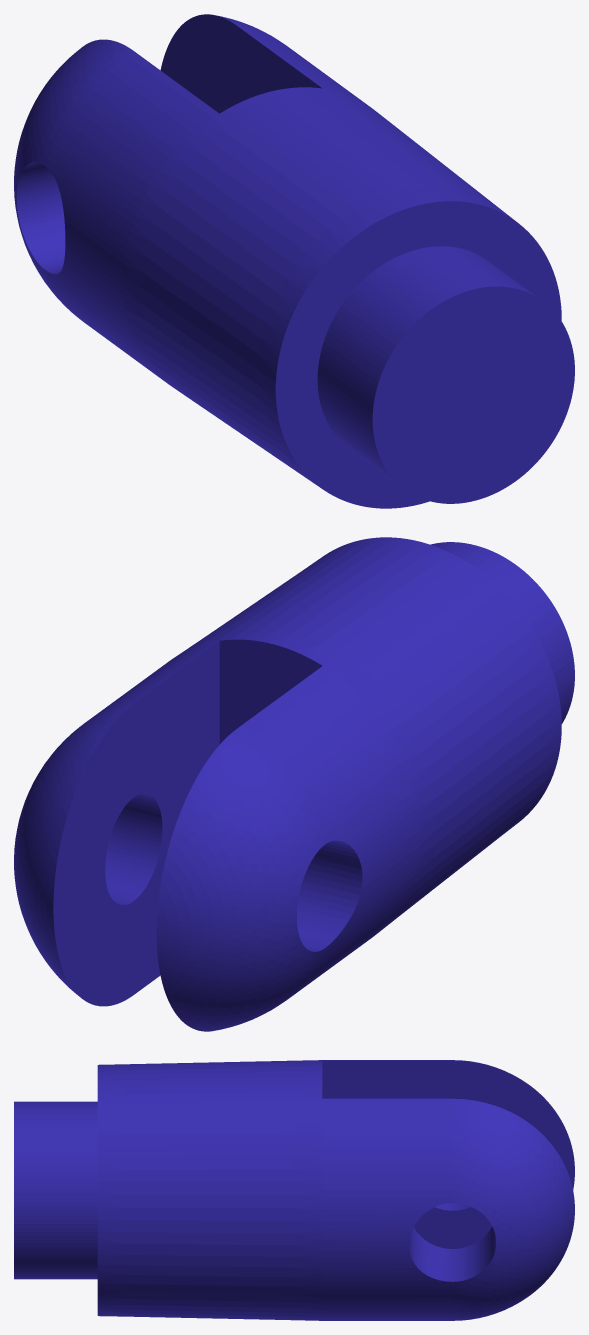
The picture shows the model from 3 angles, top to bottom: view 1: azimuth 30°, elevation 25°; view 2: azimuth 150°, elevation 25°; view 3: azimuth 270°, elevation 25°; orthographic projection. The views are drawn at different scales.
Visible parts, largest first — view 1: node; view 2: node; view 3: node.
Boxes of the visible parts, x1,y1,x2,y2 form: node: (14, 14, 574, 508); node: (14, 537, 574, 1031); node: (14, 1060, 574, 1320).
Size of the model in its own units: 0.0871 by 0.0871 by 0.1874.
